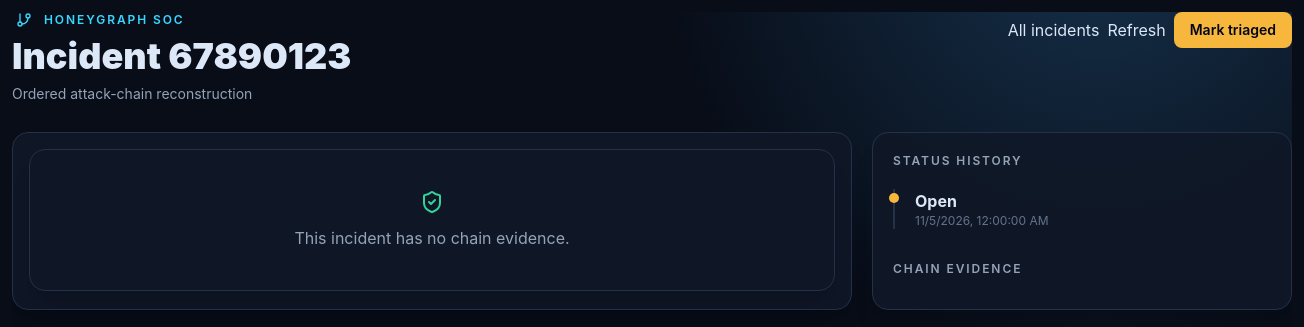
incident screen recovery › disables a status transition while the write is pending
The image size is (1304, 327).
Step 1. Click the button "Mark triaged" → (1233, 30), box [1174,12,1292,48]
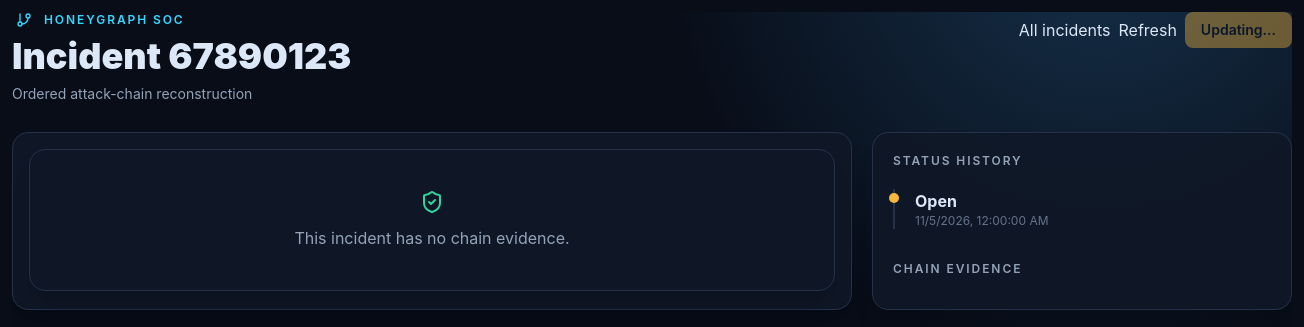
Check: the button "Updating…" is disabled, box [1185,12,1292,48]
